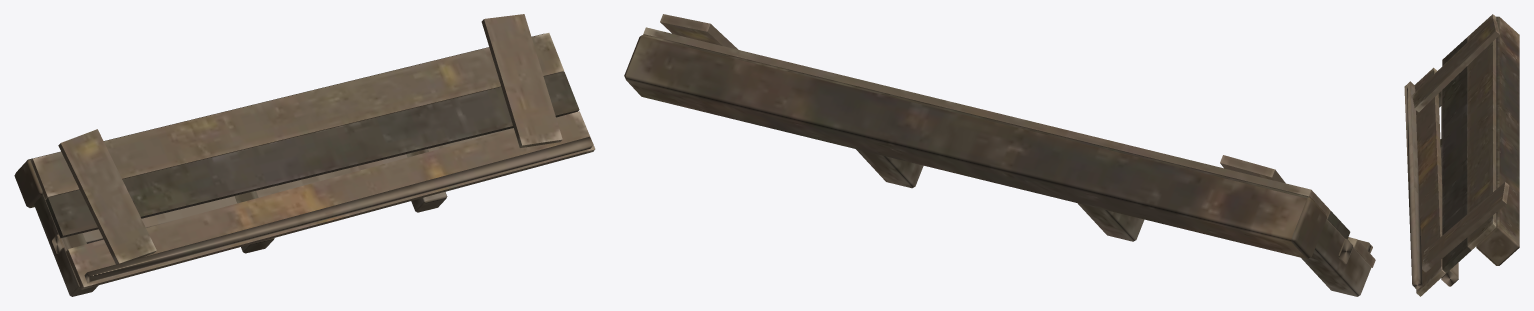
File: roof.frontier.bottom.line_variant_b.glb
3 renders of one model, left to right at view 1: azimuth 30°, elevation 25°; view 2: azimuth 150°, elevation 25°; view 3: azimuth 270°, elevation 25°, orthographic. The views are drawn at different scales.
Visible parts, largest first — view 1: model; view 2: model; view 3: model.
Boxes of the visible parts, x1=… form: model: x1=14, y1=14, x2=595, y2=296; model: x1=624, y1=14, x2=1375, y2=296; model: x1=1404, y1=14, x2=1519, y2=296.
Size of the model in its own units: 3.03 by 0.7377 by 0.6951.
1 material, 1 textured.
